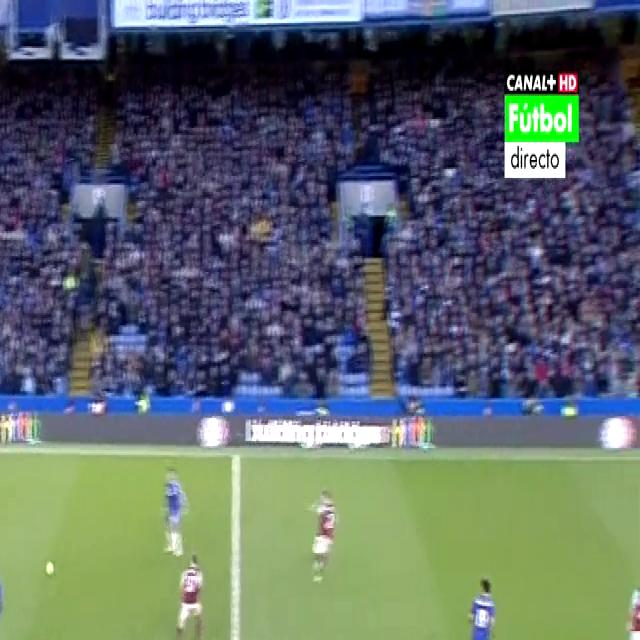ball: (45, 554, 60, 586)
soccer-player: (304, 478, 346, 594), (153, 456, 190, 564), (171, 547, 212, 640), (454, 567, 506, 640), (617, 553, 639, 640), (0, 546, 6, 640)
